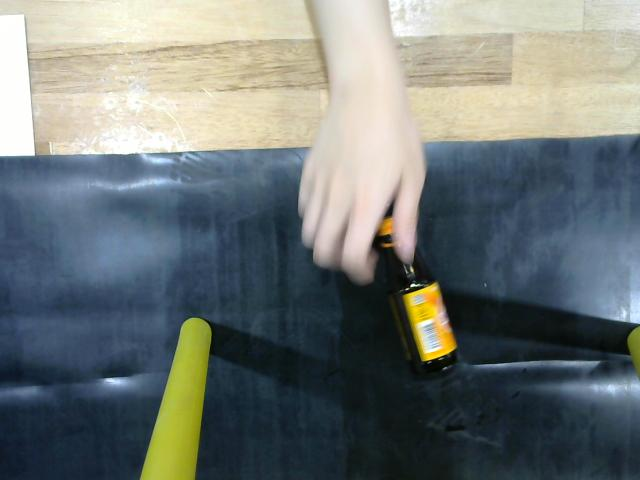glass: (366, 214, 476, 382)
